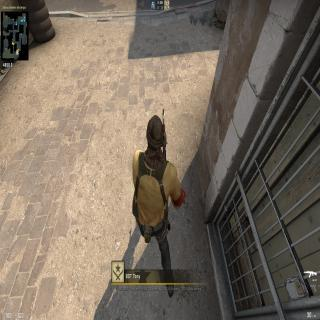T-Head: (145, 111, 164, 165)
